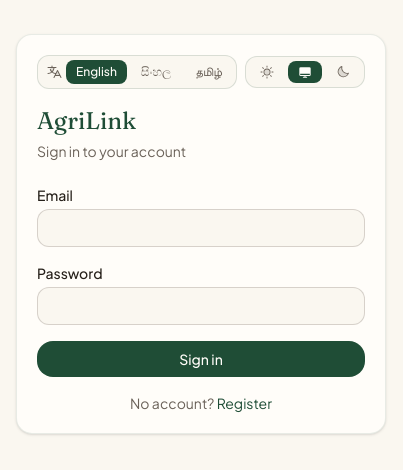
Test case: LoginPage › keeps the credential message for a 401
In the field labelled "Email": {"x": 201, "y": 228} x1=37 y1=209 x2=365 y2=247, type "farmer@agrilink.lk"
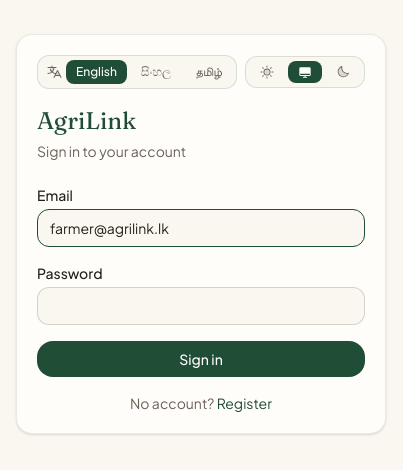
In the password field labelled "Password": {"x": 201, "y": 306} x1=37 y1=287 x2=365 y2=325, type "Farmer@AgriLink.2026!"
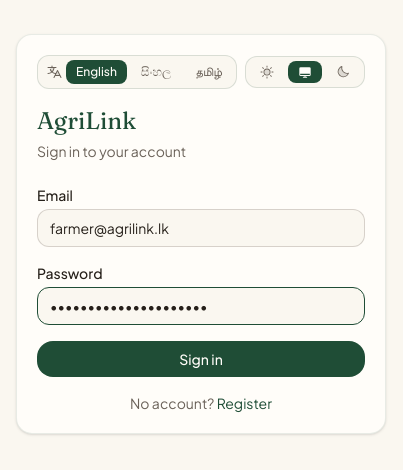
Click the button "Sign in": {"x": 201, "y": 359} x1=37 y1=341 x2=365 y2=377
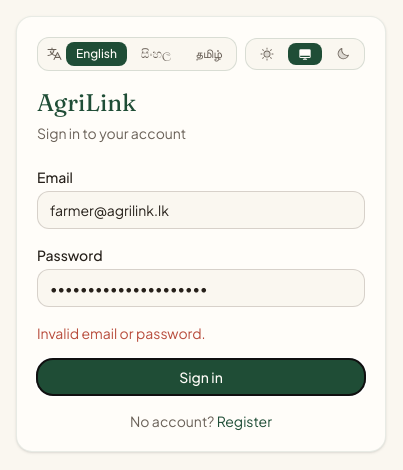
Check: the text "Invalid email or password." is shown, box x1=37 y1=324 x2=206 y2=342
